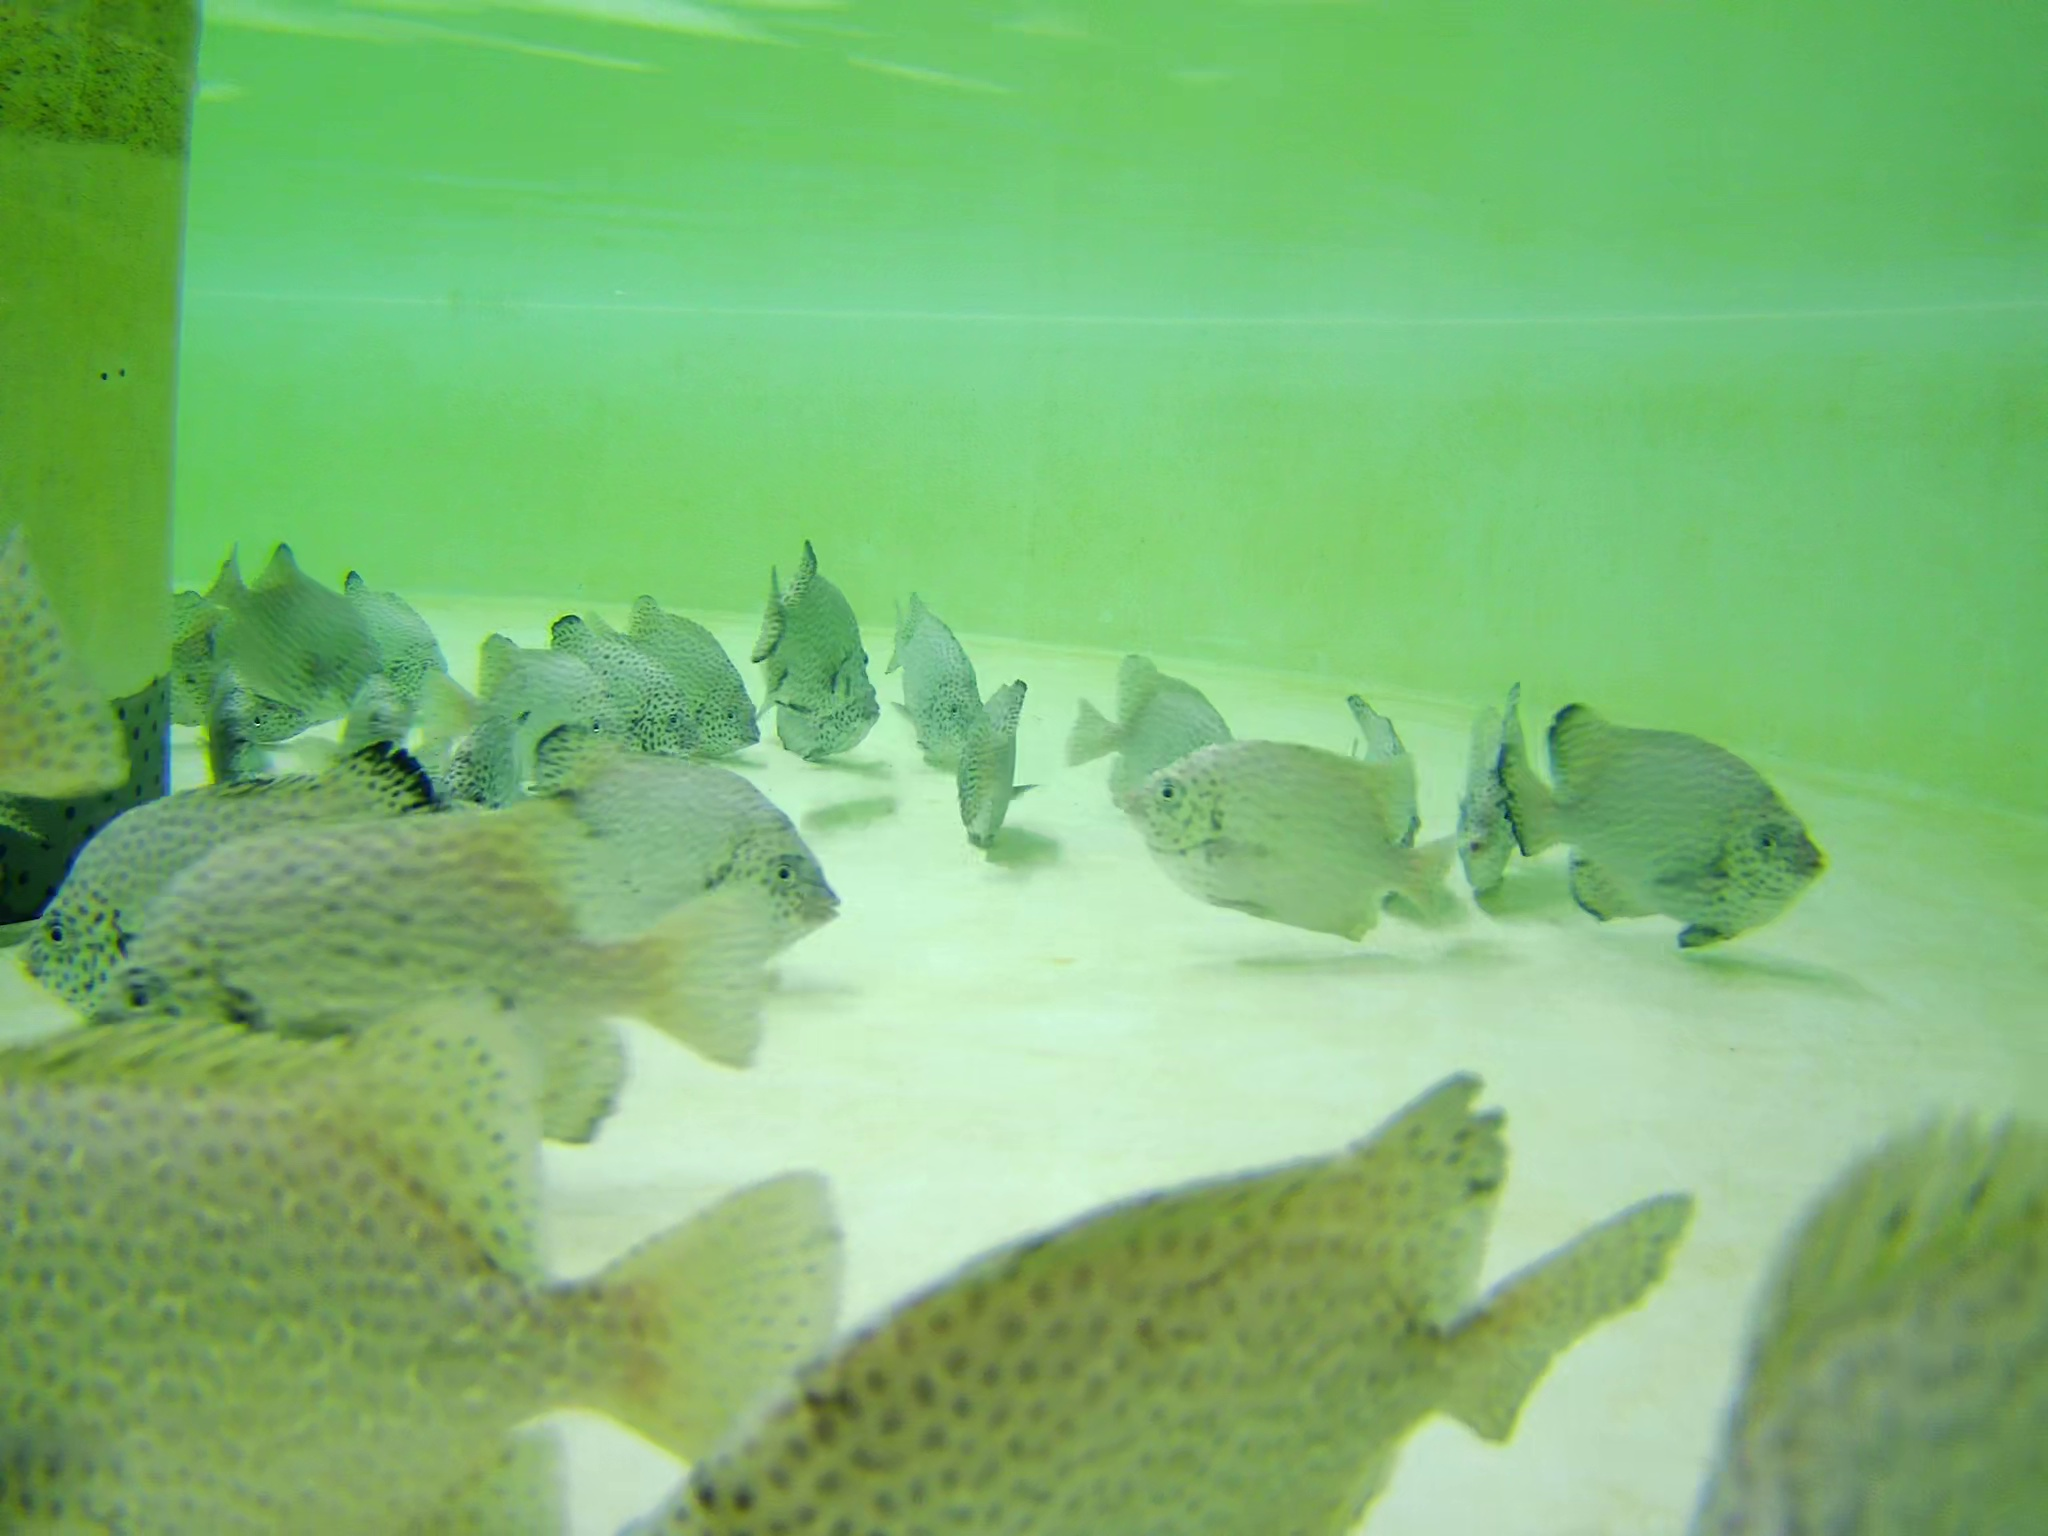fish: (603, 1086, 1698, 1536), (26, 1005, 869, 1536), (76, 797, 771, 1110), (1690, 1089, 2048, 1536), (45, 758, 481, 1078), (1505, 697, 1835, 944), (527, 731, 843, 971), (1129, 737, 1459, 954), (1068, 645, 1245, 833), (205, 536, 384, 700), (547, 615, 729, 771), (763, 542, 882, 766), (618, 582, 761, 760), (485, 634, 632, 789), (400, 658, 529, 826), (887, 576, 995, 774), (1458, 691, 1532, 918), (347, 568, 450, 726), (1342, 682, 1427, 860), (958, 679, 1032, 855), (169, 581, 244, 729), (213, 665, 306, 737), (342, 676, 413, 762)
